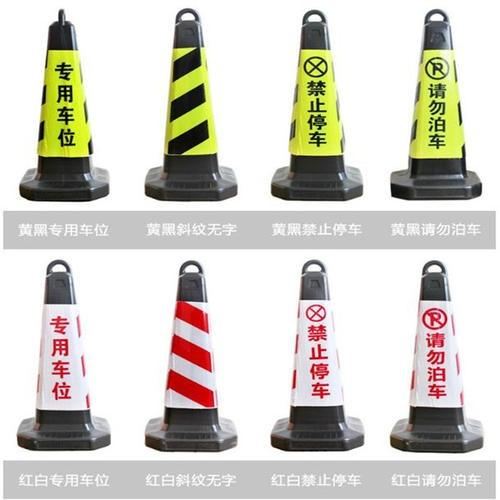cone_barrel: (16, 264, 111, 453), (389, 265, 483, 456), (145, 263, 240, 449), (144, 12, 239, 198), (271, 263, 363, 451), (18, 13, 110, 201), (271, 11, 362, 197), (391, 12, 481, 197)
